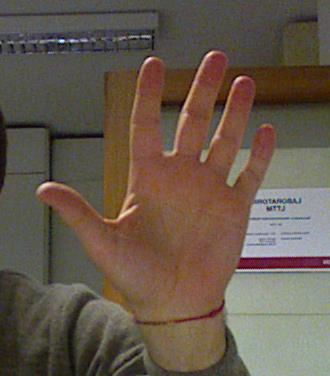down: (34, 50, 280, 318)
